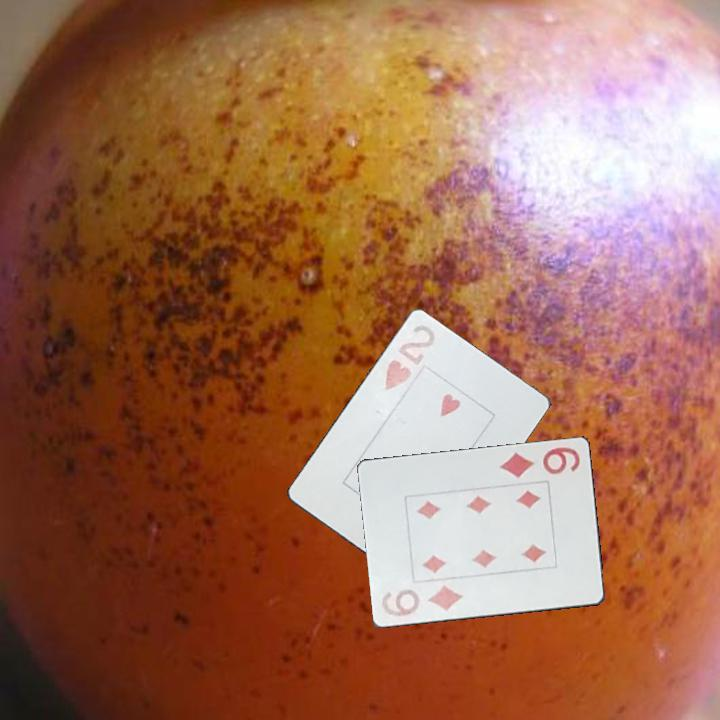2h: (379, 321, 438, 394)
6d: (376, 582, 466, 620), (496, 444, 583, 481)
